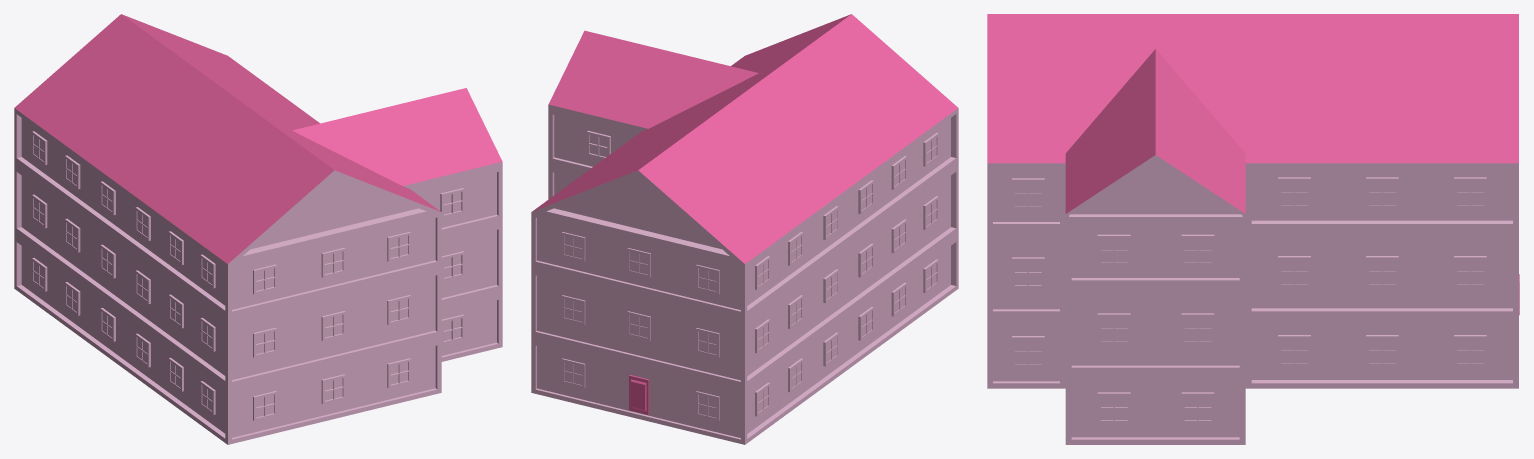
The model's file is HouseDoll.fbx.
The picture shows the model from 3 angles, left to right: view 1: azimuth 30°, elevation 25°; view 2: azimuth 150°, elevation 25°; view 3: azimuth 270°, elevation 25°; orthographic projection. The views are drawn at different scales.
Visible parts, largest first — view 1: House, Window.044, Window.046, Window.045, Window.050, Window.051, Window.052, Window.055, Window.054, Window.053, Window.049, Window.047 (+1 smaller); view 2: House, Door, Window.036, Window.037, Window.038, Window.058, Window.039, Window.041, Window.040, Window.042, Window.043, Window.025 (+17 smaller); view 3: House, Window.002, Window.003, Window, Window.004, Window.001, Window.005, Window.009, Window.010, Window.011, Window.012, Window.013 (+7 smaller).
Boxes of the visible parts, <box> form: House: <box>14,14,502,444</box>; Window.044: <box>387,358,411,388</box>; Window.046: <box>387,231,411,261</box>; Window.045: <box>387,295,411,324</box>; Window.050: <box>321,311,345,340</box>; Window.051: <box>321,247,345,277</box>; Window.052: <box>321,374,345,404</box>; Window.055: <box>440,188,464,217</box>; Window.054: <box>441,251,464,281</box>; Window.053: <box>441,314,464,344</box>; Window.049: <box>253,264,276,294</box>; Window.047: <box>253,391,276,420</box>; House: <box>531,14,958,444</box>; Door: <box>629,375,649,414</box>; Window.036: <box>561,358,585,388</box>; Window.037: <box>561,295,585,324</box>; Window.038: <box>561,232,585,261</box>; Window.058: <box>586,130,610,159</box>; Window.039: <box>696,391,719,420</box>; Window.041: <box>696,264,719,294</box>; Window.040: <box>696,328,719,357</box>; Window.042: <box>627,311,650,340</box>; Window.043: <box>627,248,650,277</box>; Window.025: <box>823,269,838,303</box>; House: <box>987,14,1518,444</box>; Window.002: <box>1097,313,1130,344</box>; Window.003: <box>1181,313,1214,344</box>; Window: <box>1097,392,1130,423</box>; Window.004: <box>1097,234,1130,265</box>; Window.001: <box>1181,392,1214,423</box>; Window.005: <box>1181,234,1214,265</box>; Window.009: <box>1278,256,1310,287</box>; Window.010: <box>1366,256,1398,287</box>; Window.011: <box>1454,256,1486,287</box>; Window.012: <box>1278,177,1310,208</box>; Window.013: <box>1366,177,1398,208</box>.
Bounding box in the file's own units: 82.76 × 64.17 × 100.
